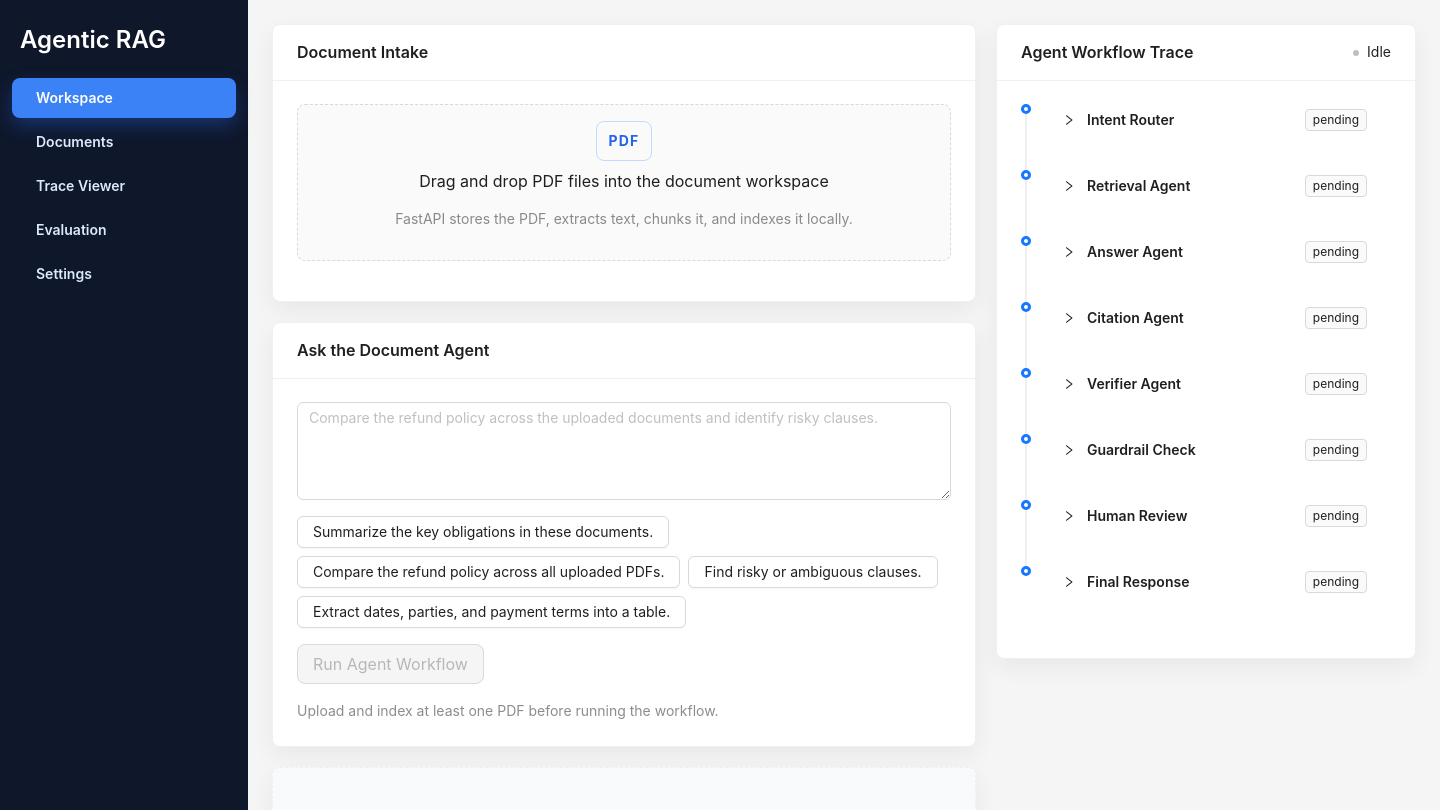
shows an empty evaluation state until PDFs are uploaded
This screenshot has width=1440, height=810.
Click the menu item "Evaluation". click: coordinates (71, 230)
box: [36, 221, 107, 238]
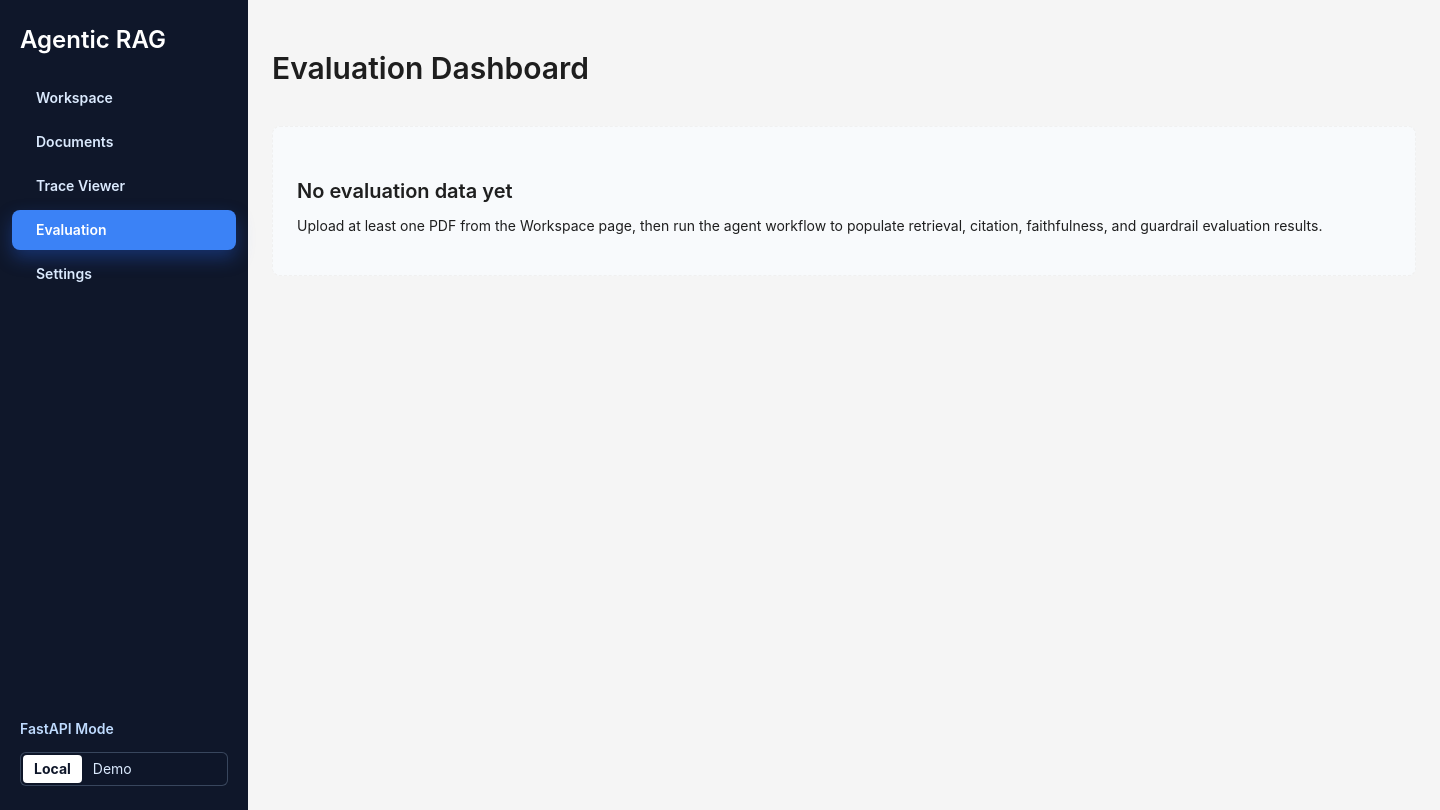
Result: the heading "Evaluation Dashboard" is shown at [272, 50, 589, 86]
Result: the heading "No evaluation data yet" is shown at [297, 180, 513, 204]
